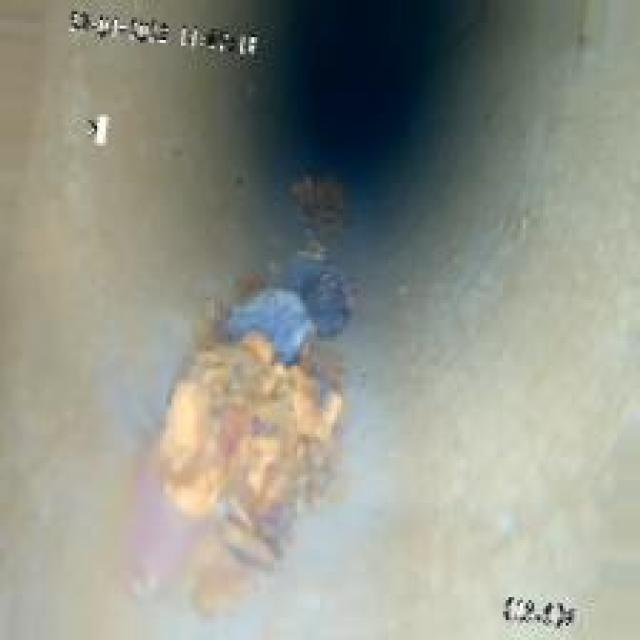stone: (137, 243, 423, 540)
